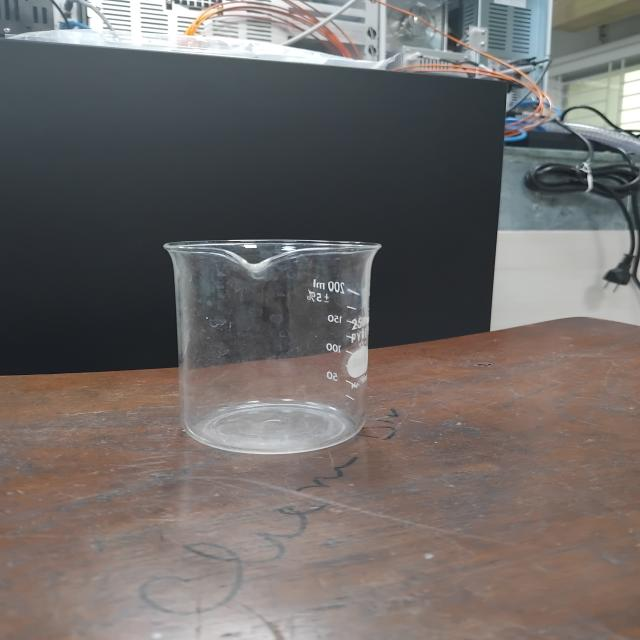Beaker: (126, 200, 446, 482)
